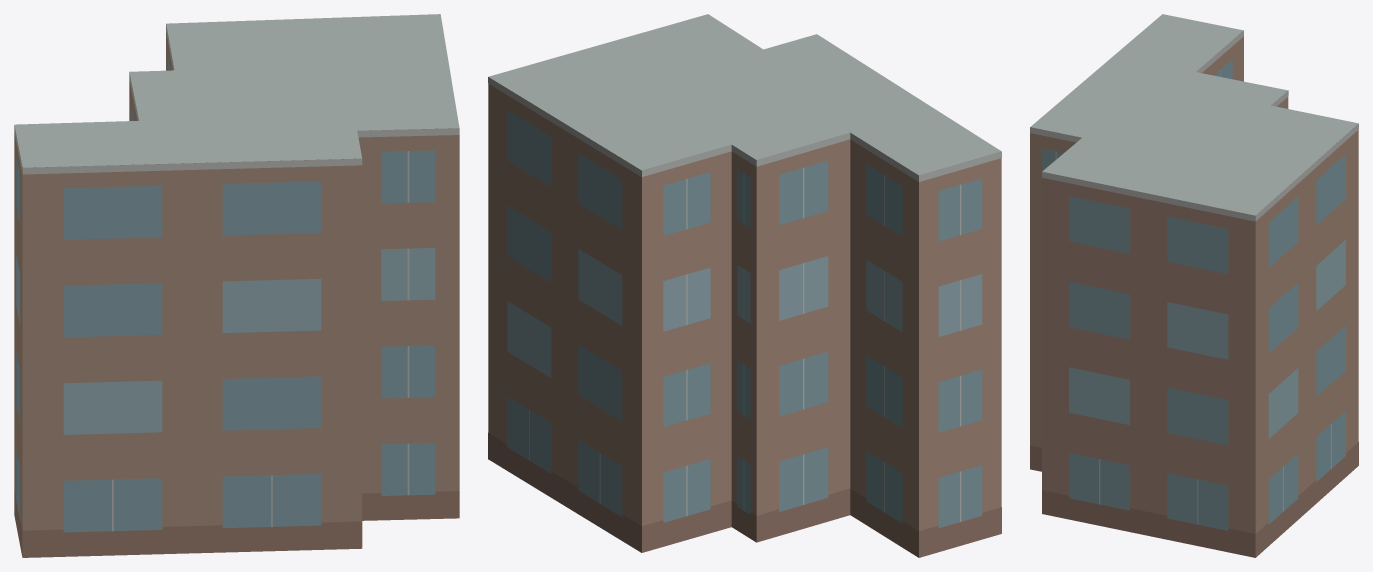
The model's file is survey-upis-32475839.glb.
3 views of the same model, side by side, from view 1: azimuth 30°, elevation 25°; view 2: azimuth 150°, elevation 25°; view 3: azimuth 270°, elevation 25° (orthographic). The views are drawn at different scales.
Visible parts, largest first — view 1: survey-upis-32475839.tmp; view 2: survey-upis-32475839.tmp; view 3: survey-upis-32475839.tmp.
Boxes of the visible parts, x1,y1,x2,y2 form: survey-upis-32475839.tmp: (14, 14, 459, 557); survey-upis-32475839.tmp: (488, 14, 1001, 557); survey-upis-32475839.tmp: (1030, 14, 1358, 557).
Bounding box in the file's own units: 17.7 × 14 × 12.2.
